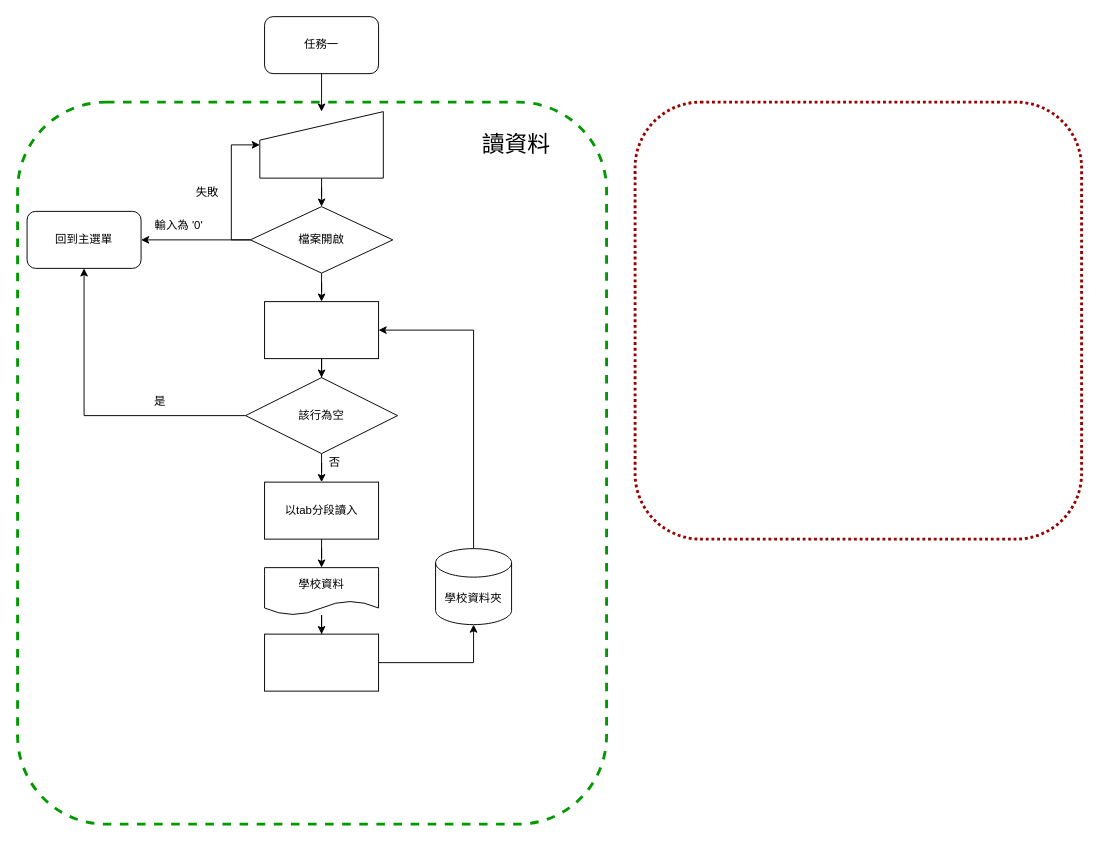
Image size: 1099x842. Some labels were removed from this diagram. The shapes that lost their labels are listed below. From the top down, each one's centre as x and y in pixels, then its label:
At (x=321, y=144): "輸入檔案編號".
At (x=321, y=330): "將資料以切行分段".
At (x=858, y=320): "建立堆積".
At (x=321, y=662): "該檔案堆疊進 資料夾".
